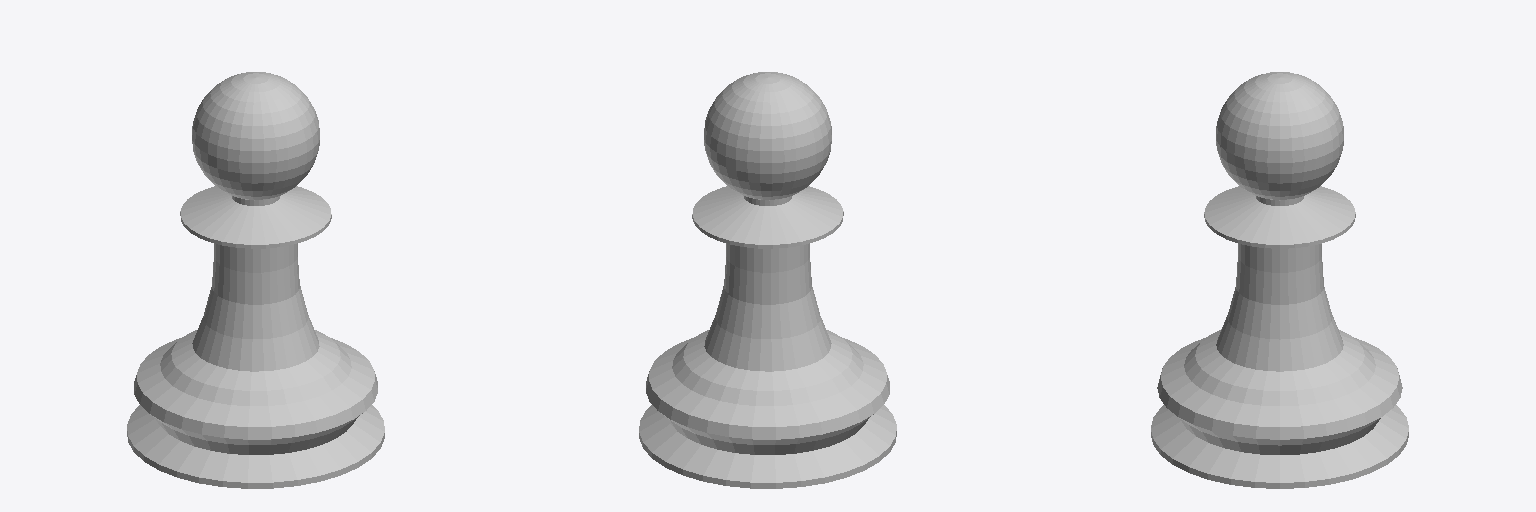
File: pionek.obj
The picture shows the model from 3 angles: view 1: azimuth 30°, elevation 25°; view 2: azimuth 150°, elevation 25°; view 3: azimuth 270°, elevation 25°; orthographic projection.
Visible parts, largest first — view 1: Circle; view 2: Circle; view 3: Circle.
Part boxes in pixels (bbox=[...]): Circle: bbox=[127, 72, 384, 488]; Circle: bbox=[639, 72, 896, 488]; Circle: bbox=[1151, 72, 1408, 488].
Size of the model in its own units: 1.24 by 1.89 by 1.24.